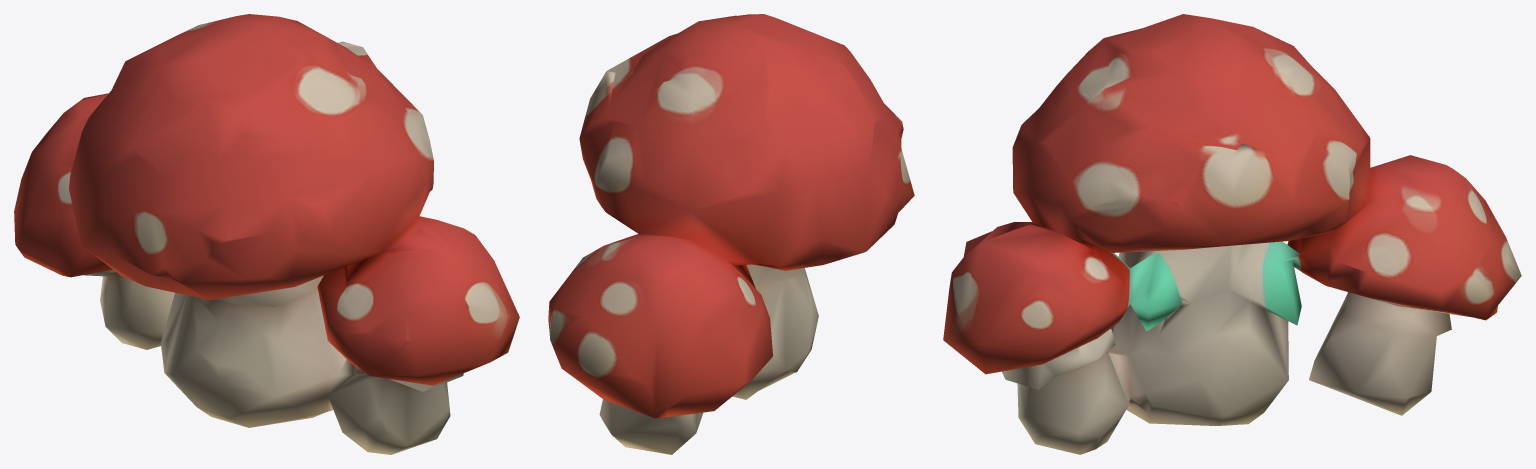
The model's file is textures.glb.
3 views of the same model, side by side, from view 1: azimuth 30°, elevation 25°; view 2: azimuth 150°, elevation 25°; view 3: azimuth 270°, elevation 25° (orthographic). The views are drawn at different scales.
Parts seen in each view (by area): view 1: tripo_node_4ac7f0db-50b9-4d9b-b879-96bcd56fd5fe; view 2: tripo_node_4ac7f0db-50b9-4d9b-b879-96bcd56fd5fe; view 3: tripo_node_4ac7f0db-50b9-4d9b-b879-96bcd56fd5fe.
Boxes of the visible parts, left/top/right/bottom form: tripo_node_4ac7f0db-50b9-4d9b-b879-96bcd56fd5fe: left=14, top=14, right=519, bottom=454; tripo_node_4ac7f0db-50b9-4d9b-b879-96bcd56fd5fe: left=548, top=14, right=914, bottom=454; tripo_node_4ac7f0db-50b9-4d9b-b879-96bcd56fd5fe: left=943, top=14, right=1521, bottom=454.
Bounding box in the file's own units: 0.6344 × 0.7134 × 1.
1 material, 1 textured.
